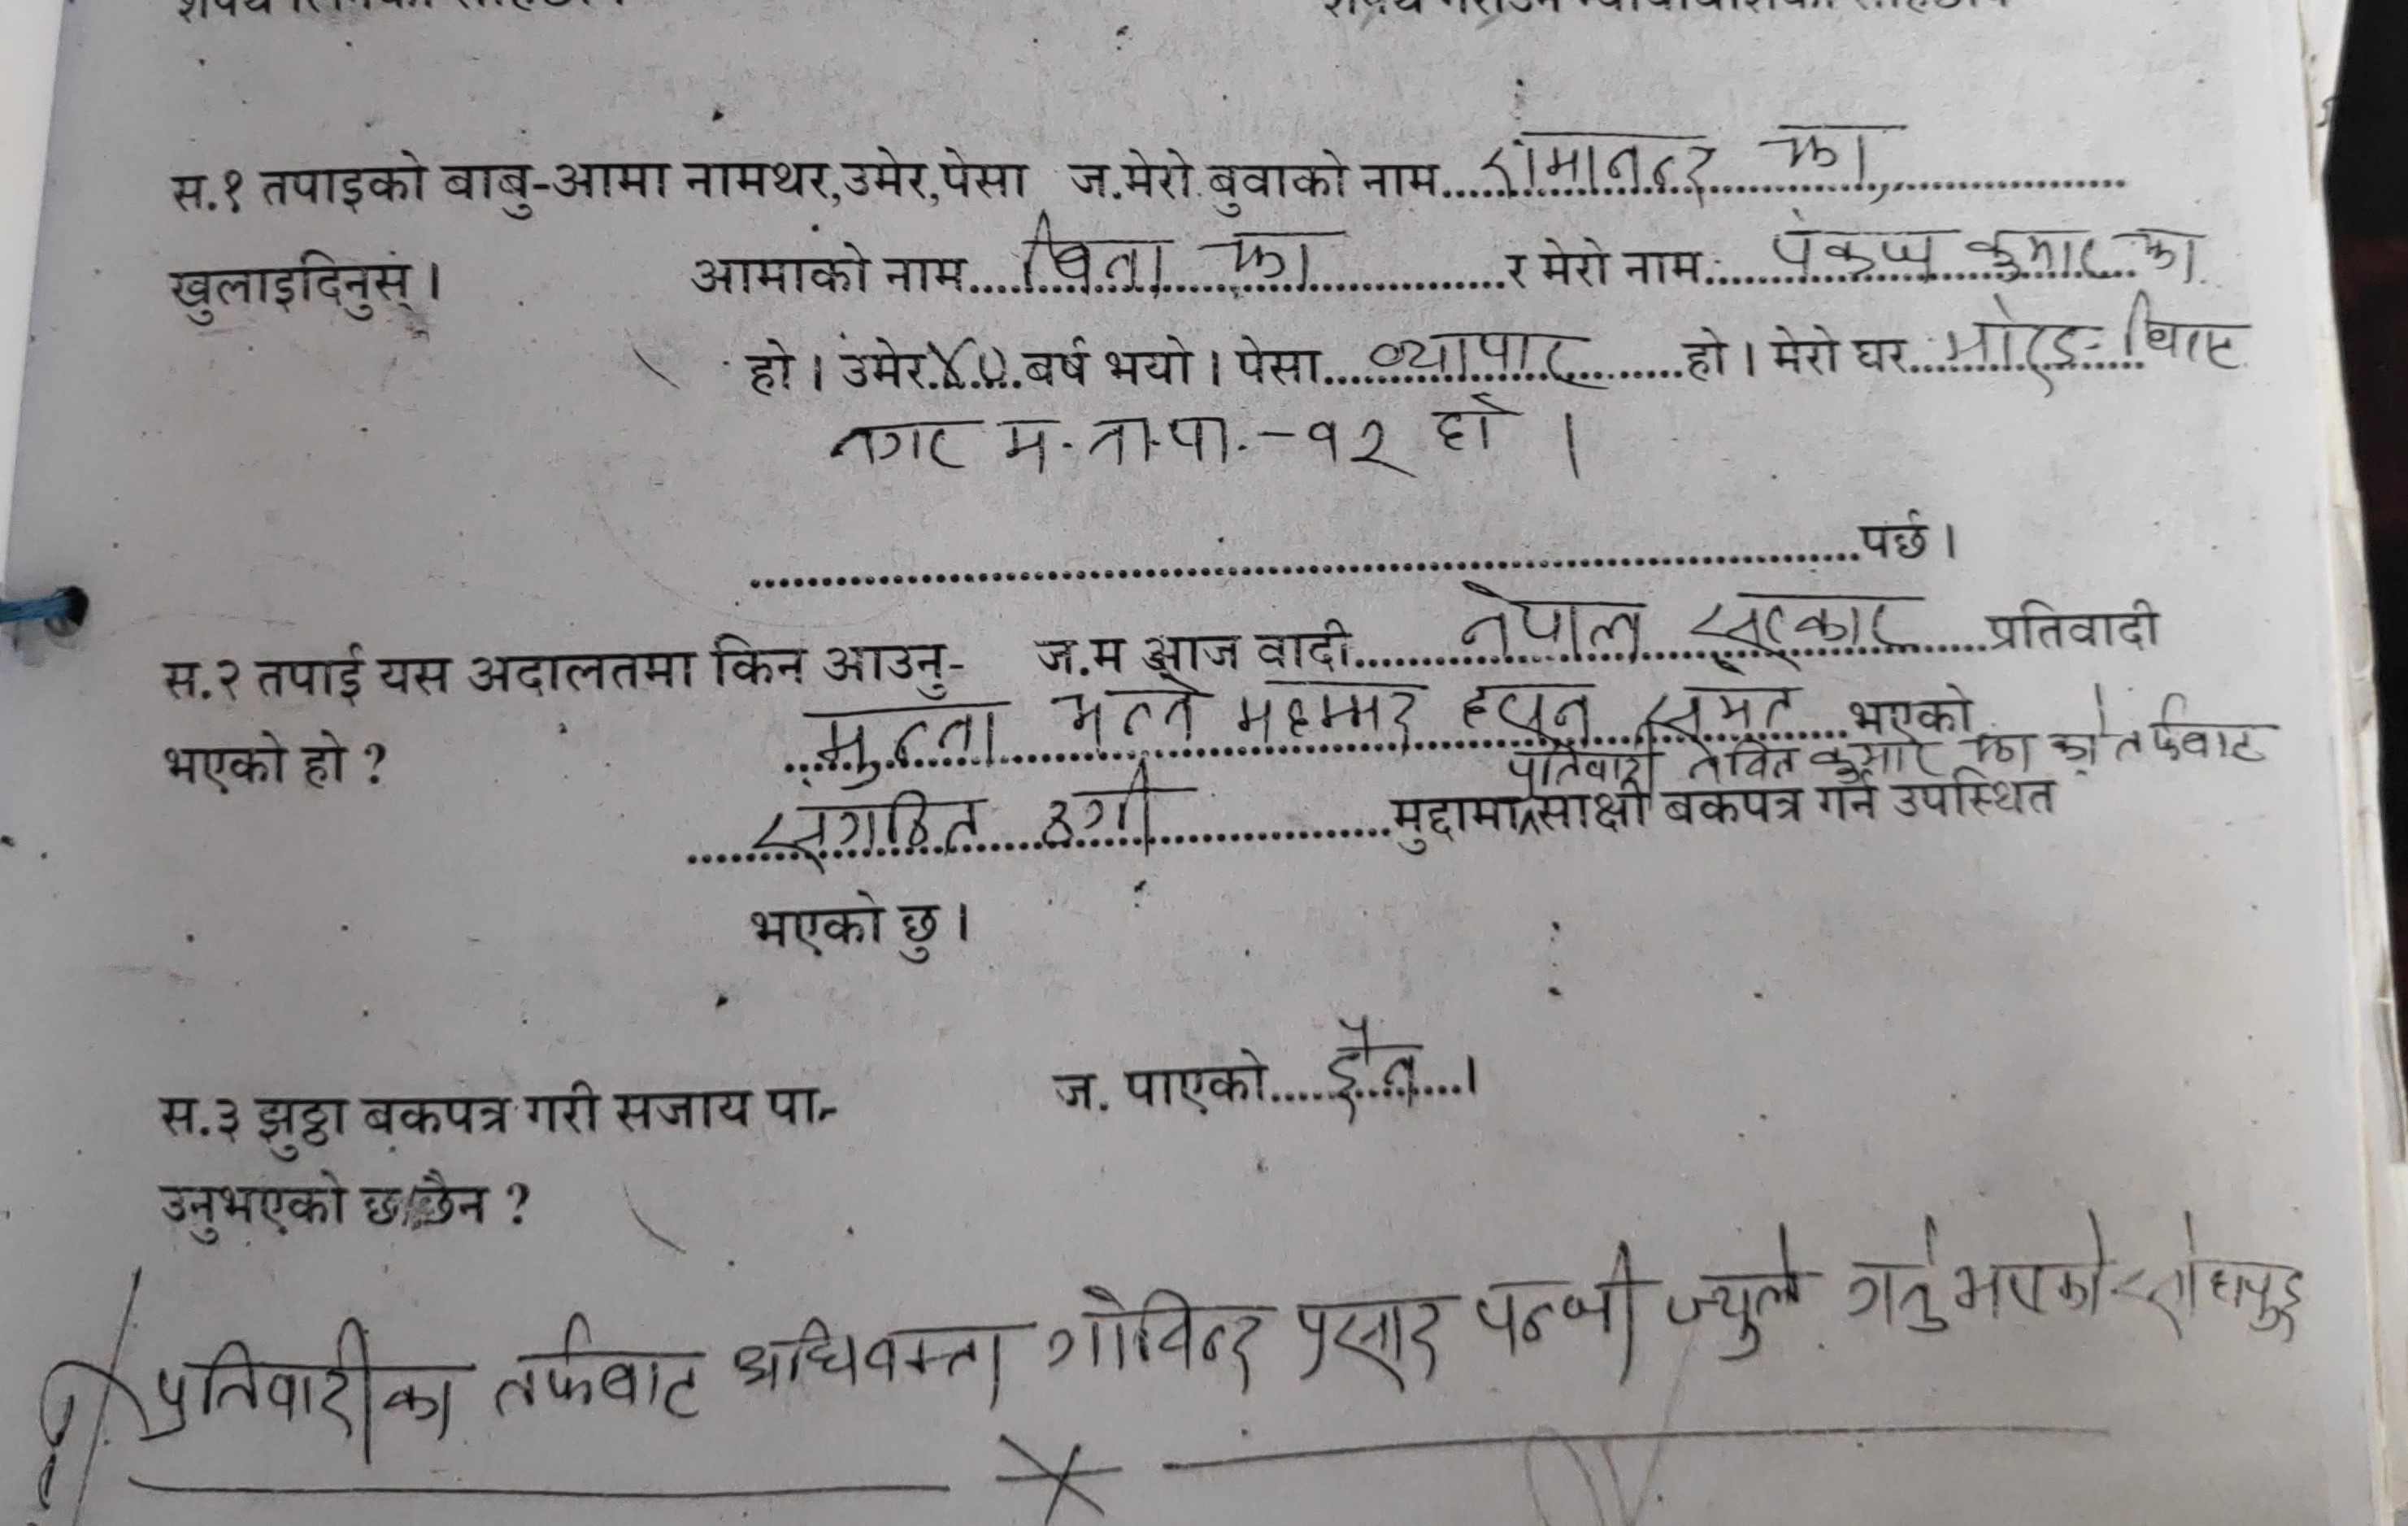text: (153, 1314, 467, 1470), (2104, 1206, 2317, 1342), (1469, 1242, 1652, 1394), (730, 1314, 1016, 1408), (486, 1314, 711, 1433), (1044, 1277, 1265, 1394), (1659, 1222, 1811, 1364), (1476, 123, 1722, 209), (997, 397, 1248, 479), (749, 788, 983, 869), (1945, 1210, 2110, 1322), (1444, 576, 1657, 657), (1288, 1292, 1450, 1398), (1681, 587, 1924, 650), (800, 699, 1007, 767), (1034, 757, 1164, 864), (1764, 200, 1950, 274), (1843, 1206, 1946, 1338), (2115, 688, 2275, 771), (1234, 676, 1434, 741), (1009, 212, 1178, 286), (1632, 659, 1799, 732), (1762, 114, 1906, 198), (1037, 673, 1208, 741), (1945, 292, 2110, 360), (1320, 1013, 1425, 1120), (1358, 328, 1602, 374), (816, 416, 978, 479), (2120, 286, 2241, 365), (1502, 738, 1667, 794), (1309, 411, 1423, 490), (1457, 676, 1602, 738), (1966, 221, 2113, 279), (1208, 225, 1336, 288), (1678, 738, 1799, 785), (1810, 743, 1938, 787), (1432, 392, 1513, 460), (2050, 685, 2110, 776), (2129, 221, 2203, 288), (928, 334, 1016, 383), (1967, 736, 2038, 776)
